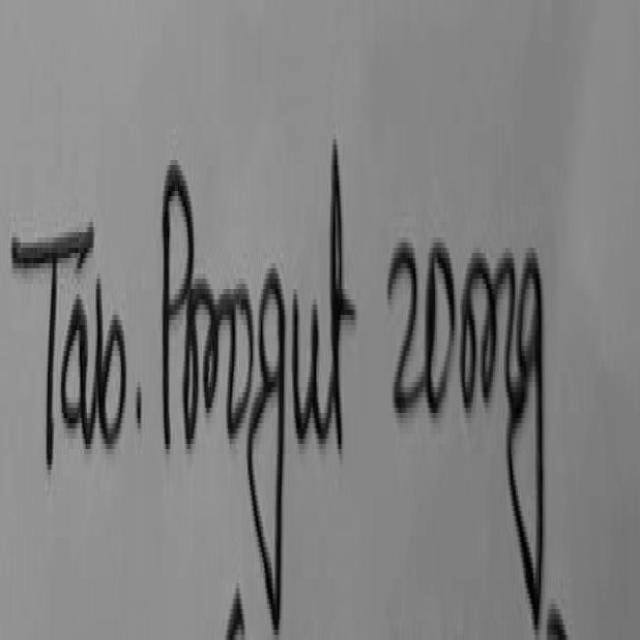0: (427, 237, 456, 408)
2: (388, 237, 426, 408)
P: (163, 160, 194, 441)
T: (11, 222, 93, 462)
a: (61, 299, 96, 441)
b: (95, 279, 124, 441)
g: (508, 248, 545, 622), (248, 263, 285, 627)
m: (461, 248, 516, 405)
o: (217, 284, 253, 431)
r: (183, 279, 217, 441)
t: (332, 139, 355, 446)
u: (293, 297, 329, 439)
